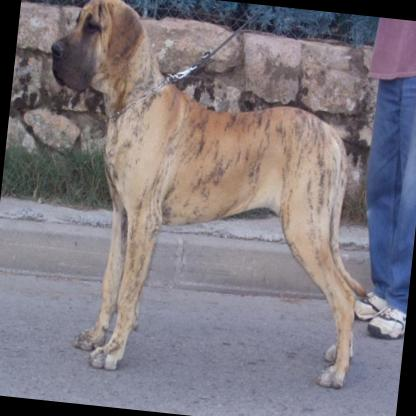Great_Dane: (14, 0, 398, 398)
